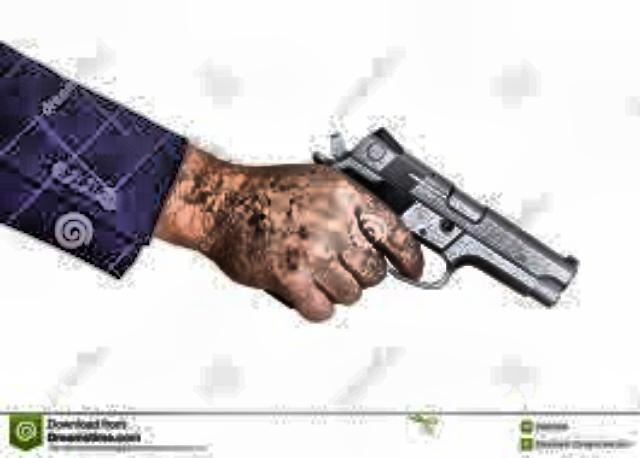pistol: (259, 121, 577, 321)
